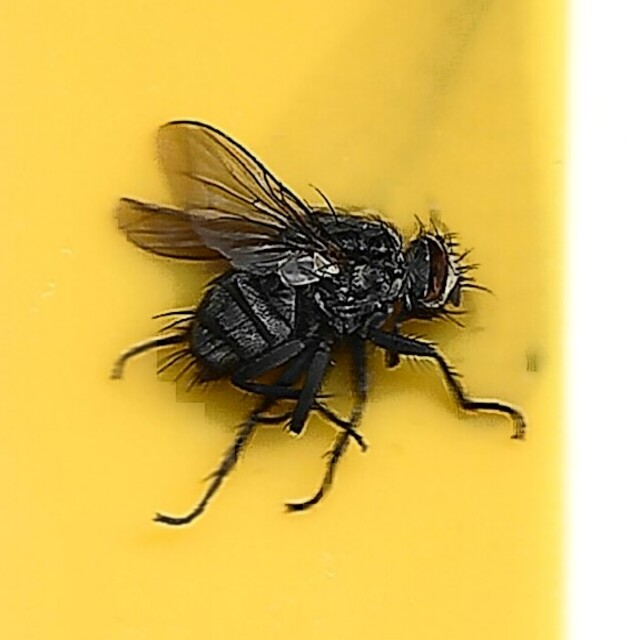Brachycera: (111, 116, 529, 524)
